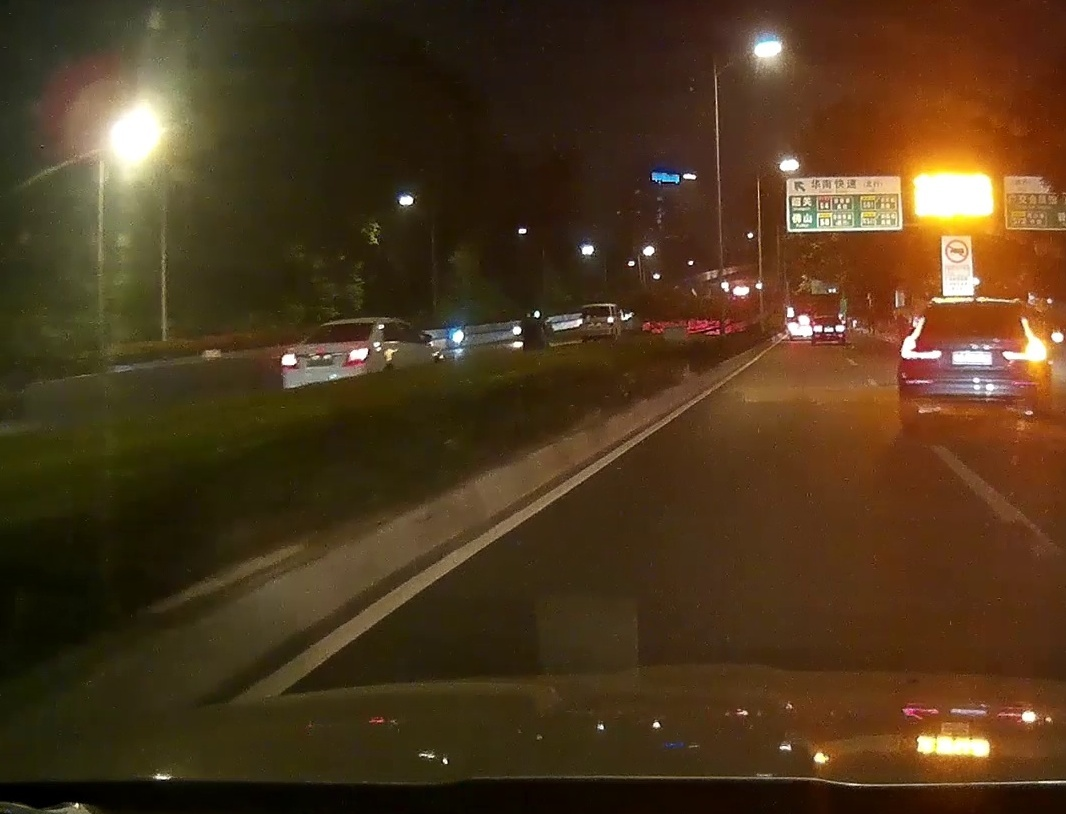L_light: (901, 315, 942, 360), (281, 353, 300, 370)
R_light: (1002, 317, 1047, 362), (340, 348, 370, 367)
T_light: (963, 304, 987, 307), (326, 340, 342, 343)
night-no: (281, 317, 379, 389)
night-right: (897, 298, 1048, 427)
